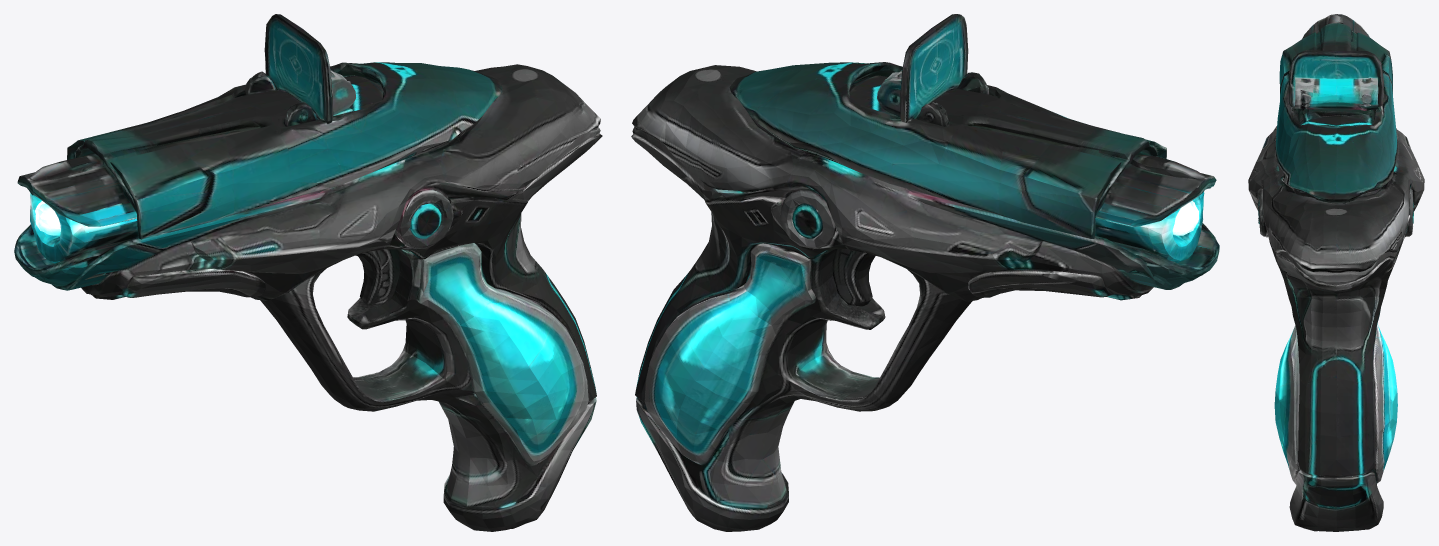
File: gun_osa_opt.glb
3 views of the same model, side by side, from view 1: azimuth 30°, elevation 25°; view 2: azimuth 150°, elevation 25°; view 3: azimuth 270°, elevation 25° (orthographic). The views are drawn at different scales.
Bounding box in the file's own units: 1 × 0.9219 × 0.3604.
1 material, 1 textured.
